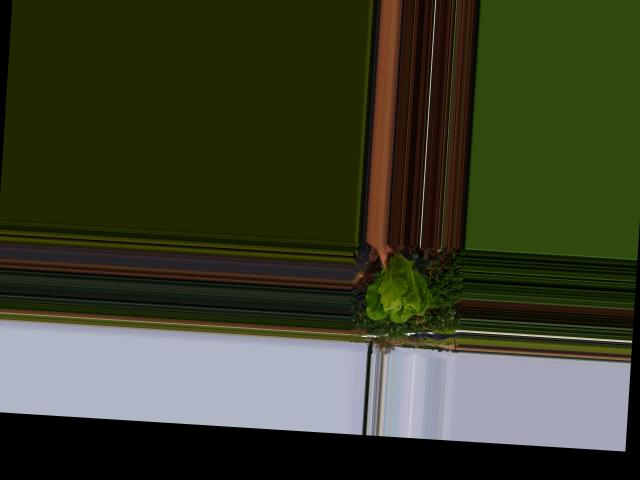lettuce: (360, 247, 436, 325)
